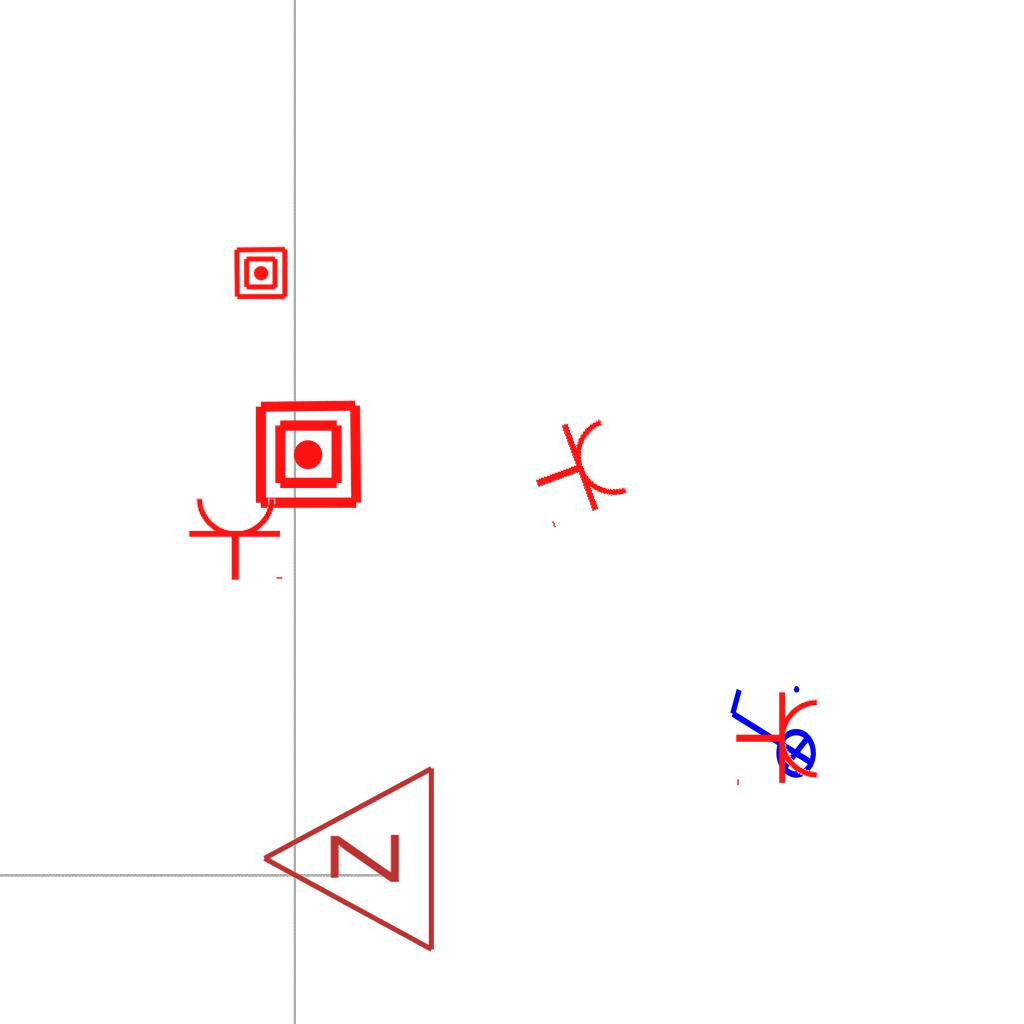Ausschalter_beleuchtet: (722, 680, 818, 792)
NAM-Nichtautomatischer_Melder: (252, 398, 365, 511), (233, 245, 289, 301)
Schukosteckdose_einfach: (518, 409, 635, 533), (187, 495, 287, 582), (734, 690, 821, 790)
Zimmersignalleuchte: (249, 763, 449, 959)
